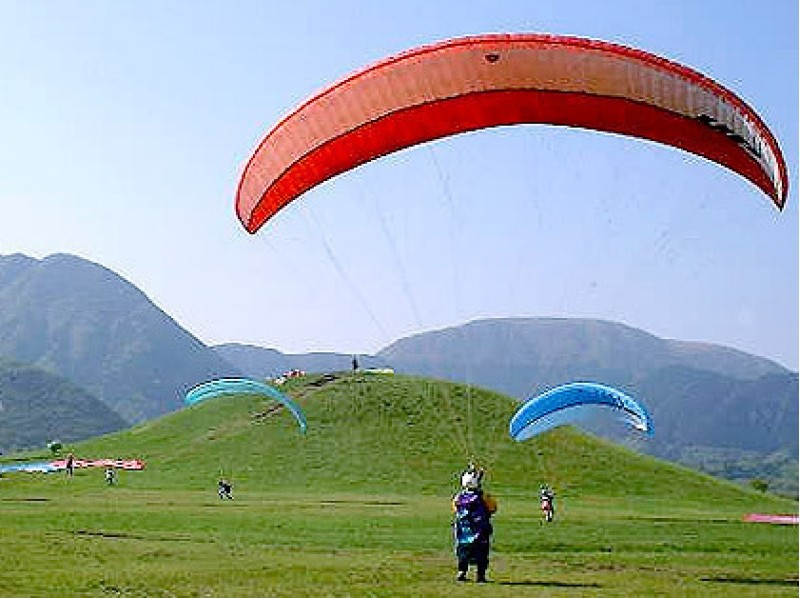Paraglider: (227, 27, 787, 232), (498, 377, 656, 441), (177, 376, 308, 436)
